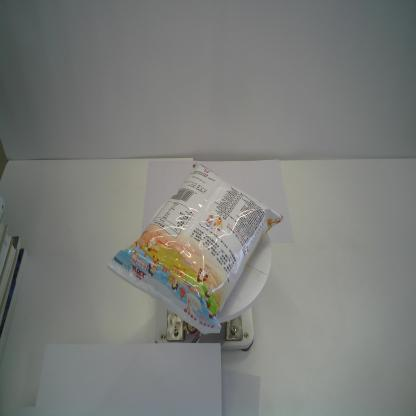Puffed Food: (105, 160, 285, 336)
